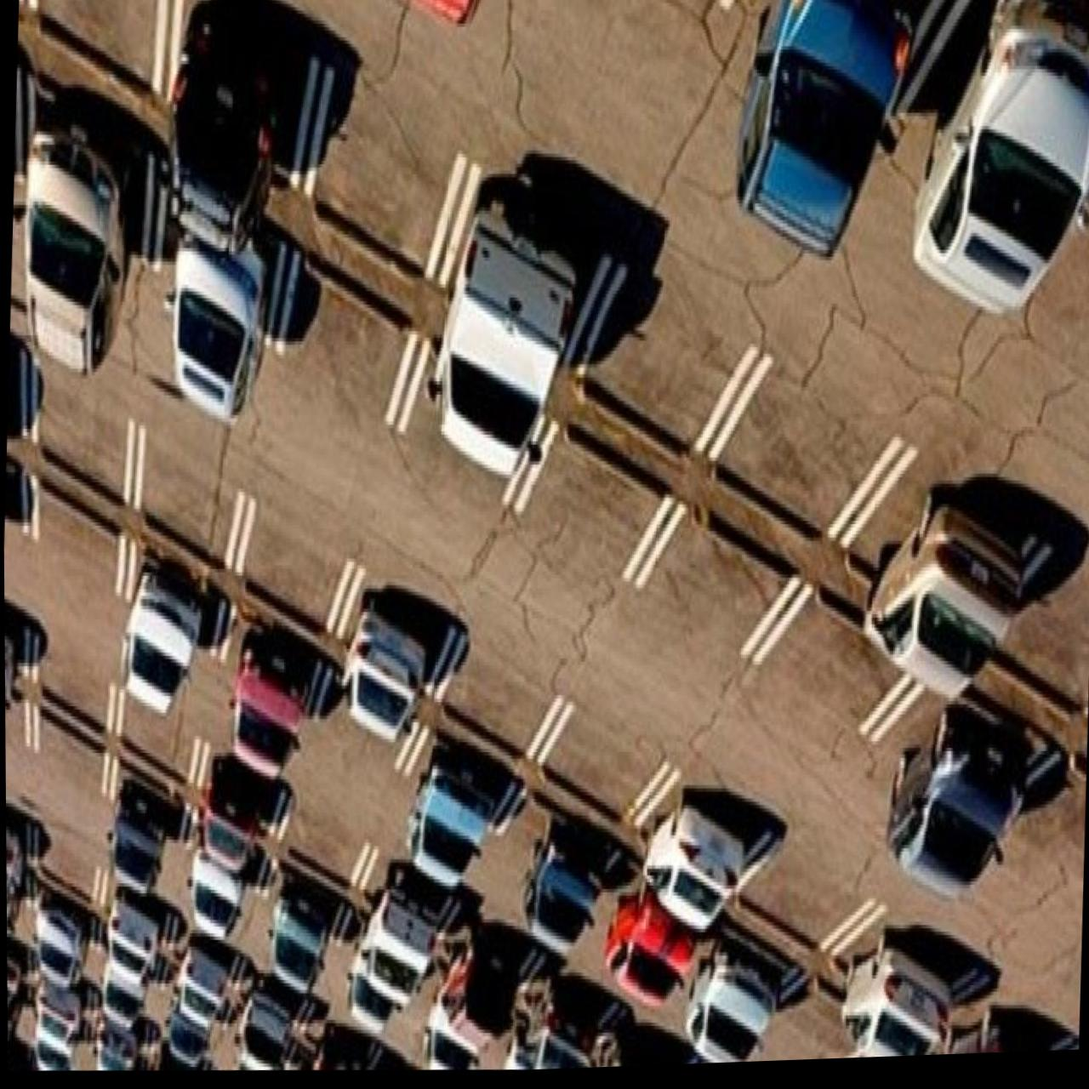cars: (882, 3, 1089, 262), (724, 0, 937, 197), (436, 193, 613, 408), (168, 2, 324, 189), (864, 454, 997, 673), (896, 689, 1036, 872), (129, 223, 281, 383), (29, 115, 153, 304), (836, 929, 970, 1058), (331, 595, 465, 718), (634, 791, 757, 906), (363, 847, 452, 997), (672, 936, 787, 1051), (401, 735, 515, 846), (510, 805, 619, 909), (195, 721, 274, 863), (592, 896, 714, 985), (443, 917, 529, 1041), (215, 627, 325, 717), (116, 575, 220, 669), (521, 965, 610, 1070), (247, 869, 347, 960), (188, 829, 273, 925), (110, 770, 180, 882), (169, 920, 237, 1026), (27, 886, 92, 987), (238, 964, 310, 1052), (103, 906, 168, 977), (32, 976, 85, 1057)
empty: (585, 264, 755, 487), (724, 335, 877, 569), (299, 71, 451, 242), (638, 522, 802, 673), (515, 440, 666, 598), (758, 589, 902, 736), (388, 376, 533, 510), (280, 291, 405, 444), (244, 468, 354, 639), (433, 609, 559, 755), (24, 339, 136, 494), (136, 405, 232, 582), (21, 0, 160, 92), (280, 775, 364, 910), (22, 496, 136, 594), (546, 698, 650, 805), (754, 838, 855, 945), (112, 684, 206, 774), (306, 687, 406, 767), (26, 643, 109, 729), (38, 816, 99, 910)
